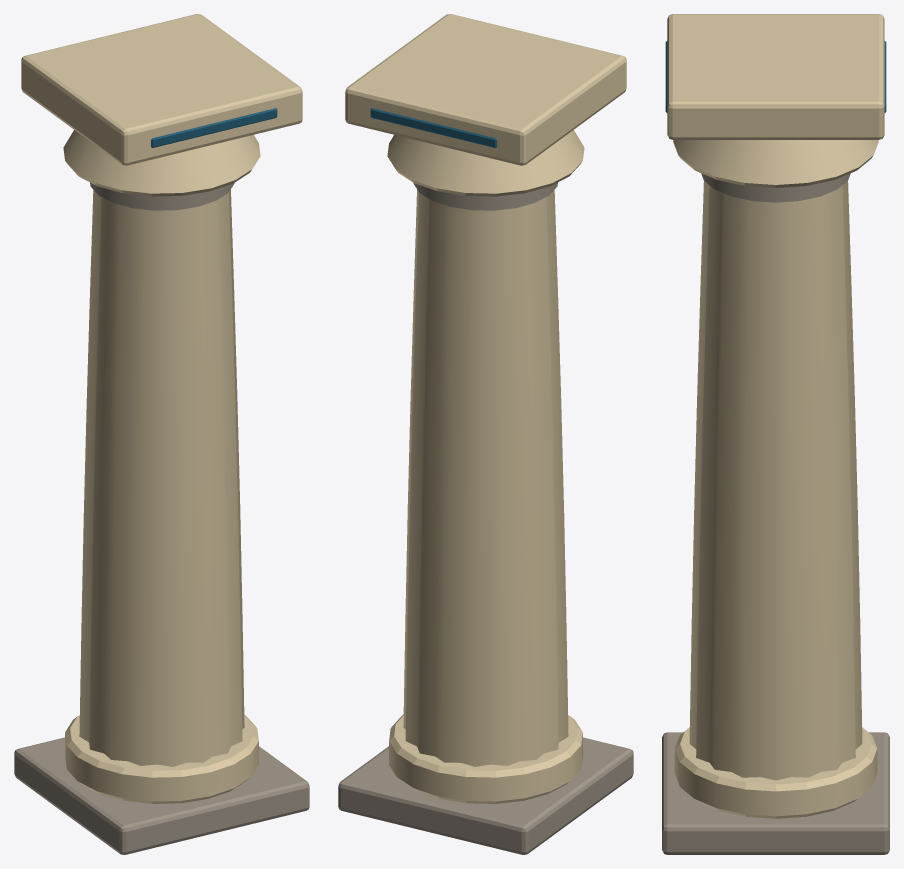
File: column_doric_weathered_LOD0.glb
The picture shows the model from 3 angles, left to right: view 1: azimuth 30°, elevation 25°; view 2: azimuth 150°, elevation 25°; view 3: azimuth 270°, elevation 25°; orthographic projection. The views are drawn at different scales.
Parts seen in each view (by area): view 1: column_doric_weathered_LOD0; view 2: column_doric_weathered_LOD0; view 3: column_doric_weathered_LOD0.
Part boxes in pixels (bbox=[...]): column_doric_weathered_LOD0: bbox=[14, 14, 309, 854]; column_doric_weathered_LOD0: bbox=[338, 14, 633, 854]; column_doric_weathered_LOD0: bbox=[662, 14, 889, 854].
Bounding box in the file's own units: 1.08 × 3.93 × 1.08.
